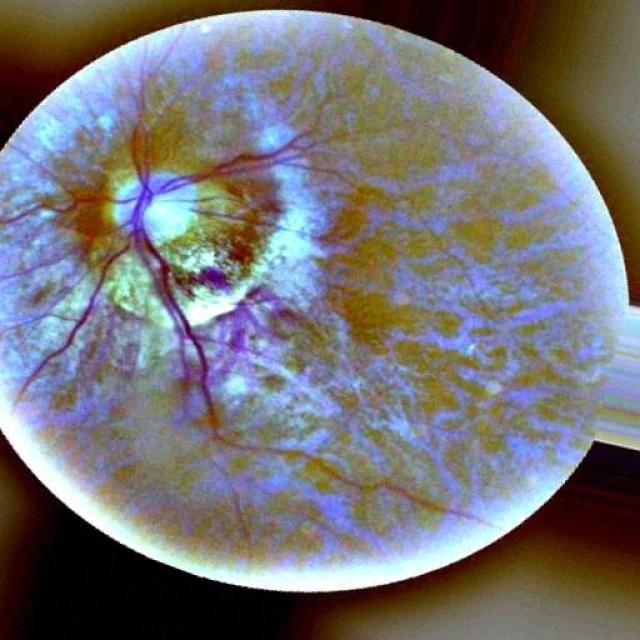Nerves: (130, 172, 212, 418), (17, 238, 125, 411), (148, 122, 314, 206), (4, 190, 132, 228)
Optic Disk: (144, 185, 196, 244)
